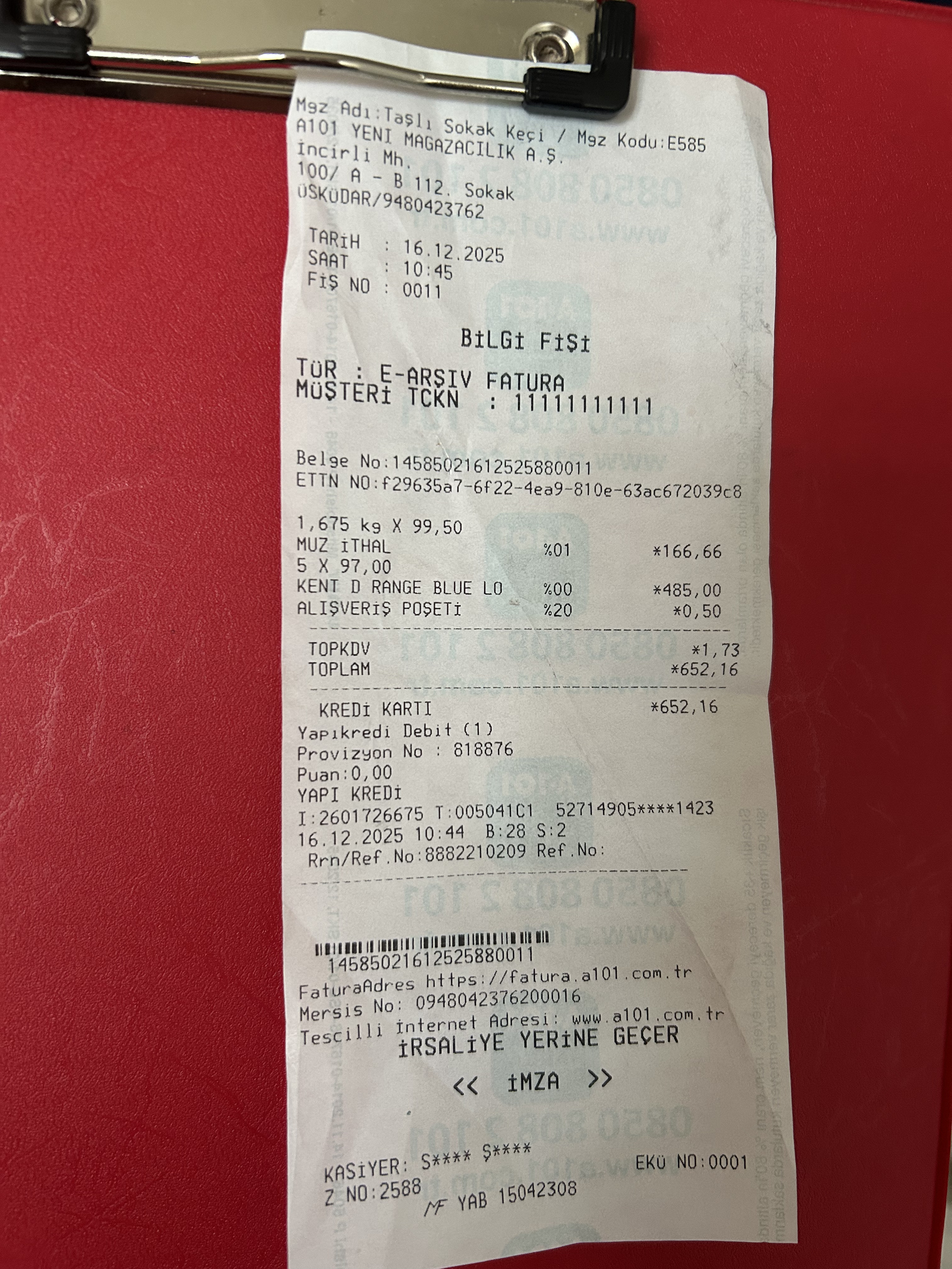date: (400, 232, 513, 265)
price: (678, 658, 748, 683)
workplace: (286, 91, 715, 222)
